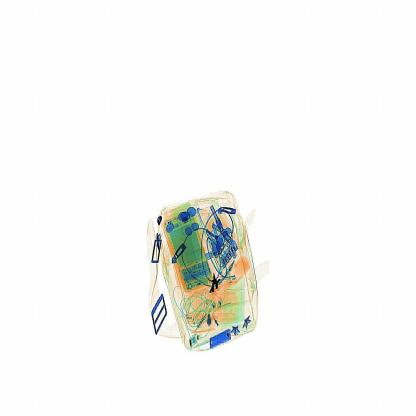gun: (200, 264, 228, 309)
